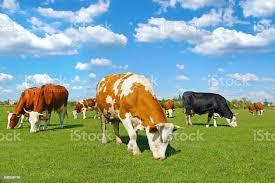cow: (94, 74, 174, 162), (25, 83, 70, 134), (183, 90, 238, 128), (7, 87, 40, 130), (71, 98, 96, 121), (247, 102, 263, 117), (164, 101, 174, 118)
